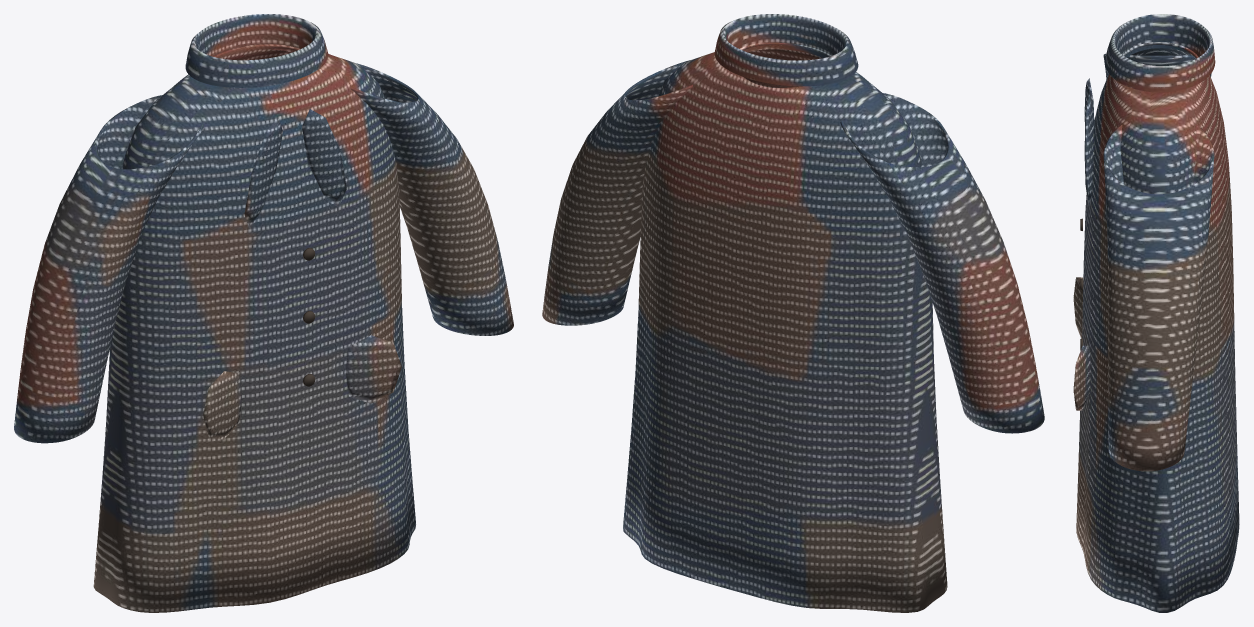
The model's file is kantha_overcoat.glb.
3 views of the same model, side by side, from view 1: azimuth 30°, elevation 25°; view 2: azimuth 150°, elevation 25°; view 3: azimuth 270°, elevation 25° (orthographic). The views are drawn at different scales.
Visible parts, largest first — view 1: KanthaOvercoatMesh; view 2: KanthaOvercoatMesh; view 3: KanthaOvercoatMesh.
Boxes of the visible parts, box(x1,y1,x2,y2) form: KanthaOvercoatMesh: box(14, 14, 513, 612); KanthaOvercoatMesh: box(542, 14, 1044, 612); KanthaOvercoatMesh: box(1073, 14, 1239, 612).
Size of the model in its own units: 1.1 by 1.13 by 0.3391.
Materials: 2 (1 with a texture image).
